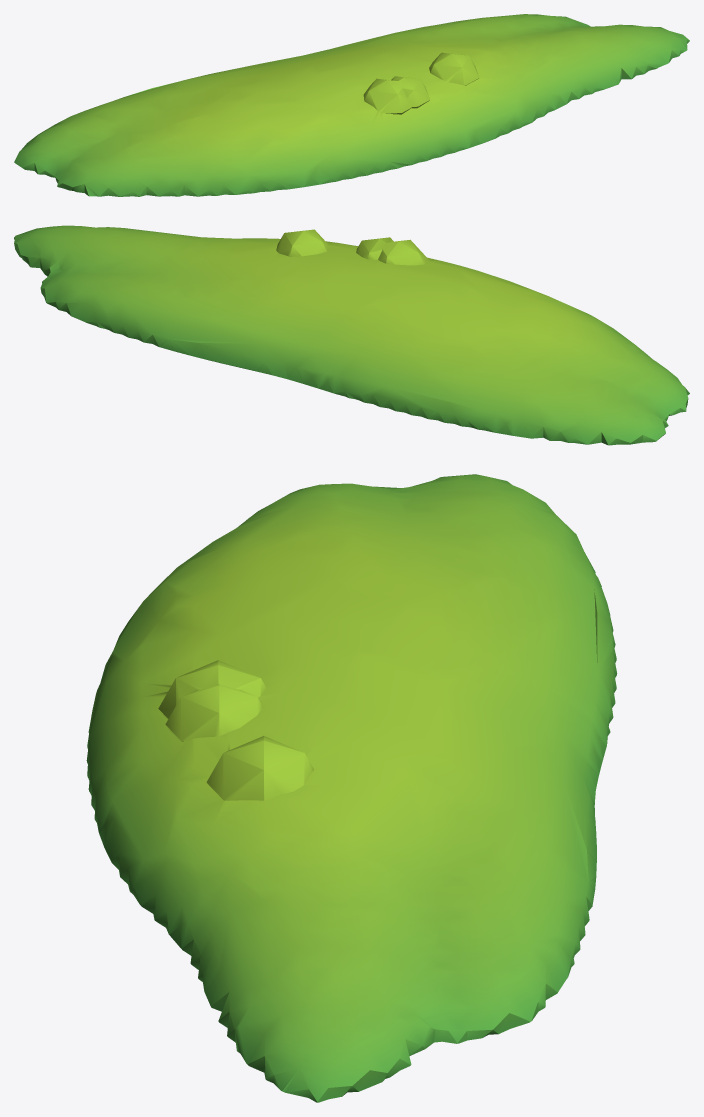
Rendered from goo_puddle_long.glb.
The picture shows the model from 3 angles, top to bottom: view 1: azimuth 30°, elevation 25°; view 2: azimuth 150°, elevation 25°; view 3: azimuth 270°, elevation 25°; orthographic projection. The views are drawn at different scales.
Visible parts, largest first — view 1: goo_puddle_long; view 2: goo_puddle_long; view 3: goo_puddle_long.
Boxes of the visible parts, box(x1,y1,x2,y2) form: goo_puddle_long: box(14, 14, 689, 196); goo_puddle_long: box(14, 225, 689, 445); goo_puddle_long: box(86, 474, 617, 1102).
Bounding box in the file's own units: 2.15 × 0.1917 × 0.7798.
Materials: 1 (1 with a texture image).
